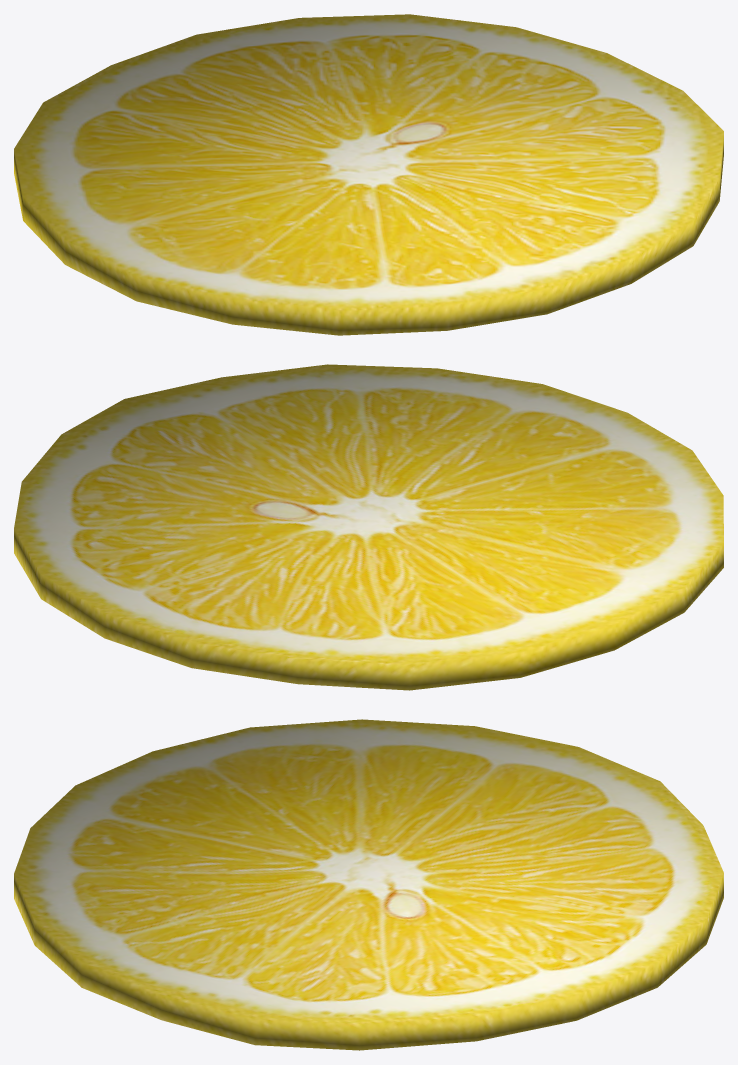
Rendered from FruitSlice.fbx.
3 renders of one model, top to bottom at view 1: azimuth 30°, elevation 25°; view 2: azimuth 150°, elevation 25°; view 3: azimuth 270°, elevation 25°, orthographic.
Visible parts, largest first — view 1: LemonSlice; view 2: LemonSlice; view 3: LemonSlice.
Part boxes in pixels (x1,y1,x2,y2): LemonSlice: (14,14,723,335); LemonSlice: (14,364,723,690); LemonSlice: (14,719,723,1050).
Bounding box in the file's own units: 0.0594 × 0.0582 × 0.00226.
